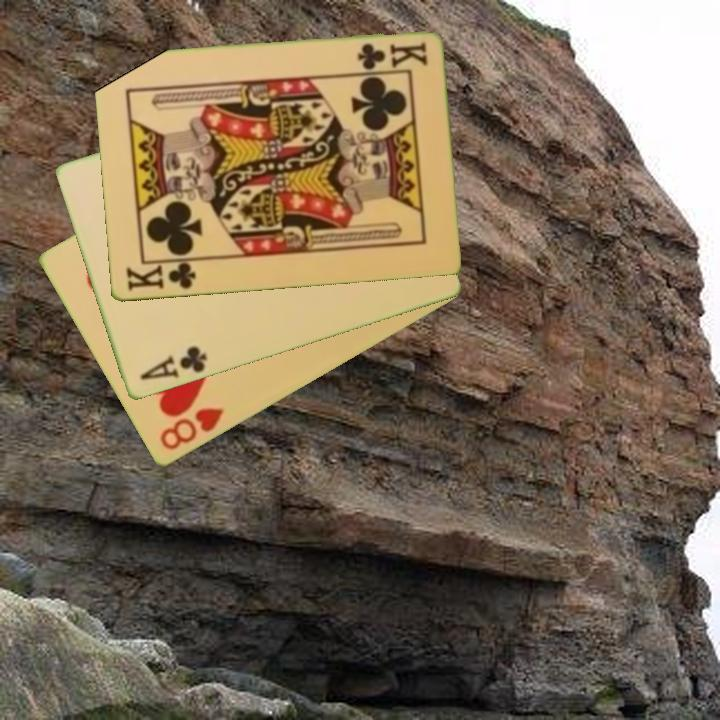8h: (156, 404, 227, 454)
Ac: (136, 343, 210, 383)
Kc: (122, 257, 202, 294), (354, 39, 430, 72)
